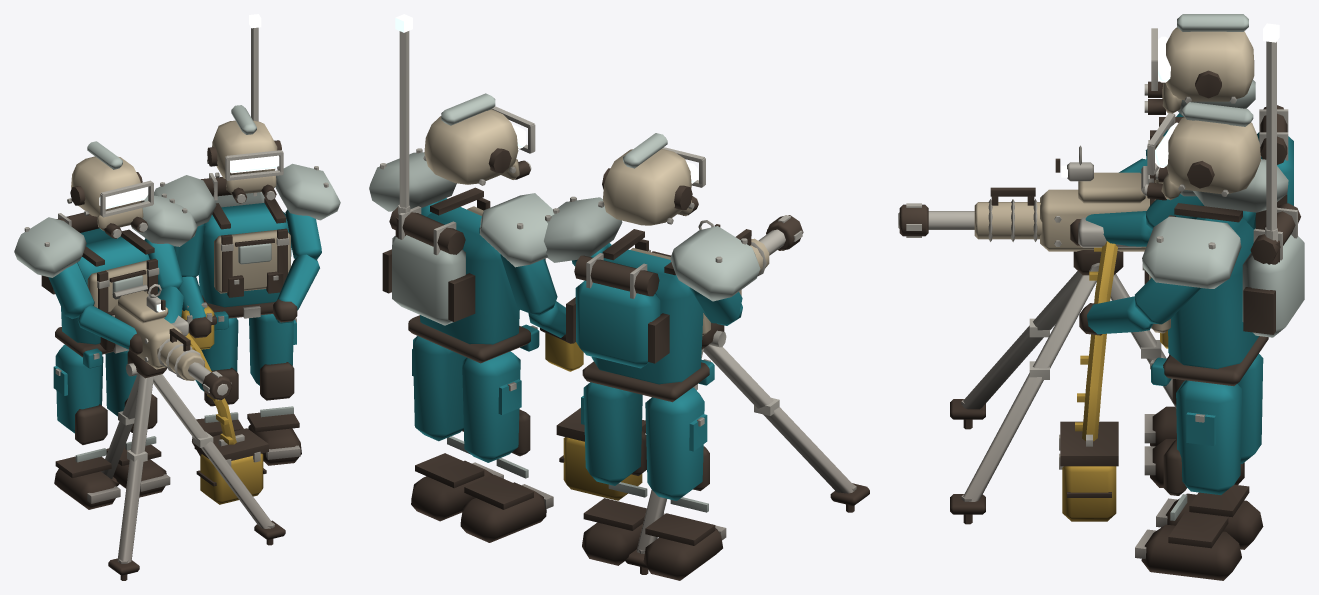
The model's file is gunner.glb.
3 views of the same model, side by side, from view 1: azimuth 30°, elevation 25°; view 2: azimuth 150°, elevation 25°; view 3: azimuth 270°, elevation 25° (orthographic). The views are drawn at different scales.
Visible parts, largest first — view 1: Pad, Tripod, Jacket, Sleeve, Helmet, Forearm, Leg_suit, Leg_suit.001, Vest, Vest_straps, Receiver, Ammo_box (+32 smaller); view 2: Pad, Jacket, Leg_suit, Helmet, Leg_suit.001, Pack, Boot, Pack.001, Tripod, Belt, Boot.001, Sleeve (+18 smaller); view 3: Helmet, Pad, Tripod, Jacket, Leg_suit.001, Receiver, Boot.001, Forearm, Pack.001, Sleeve, Ammo_box, Belt.001 (+31 smaller).
Part boxes in pixels (<box>): Pad: <box>14,163,340,277</box>; Tripod: <box>101,374,273,563</box>; Jacket: <box>61,203,291,344</box>; Sleeve: <box>48,209,321,318</box>; Helmet: <box>71,120,277,216</box>; Forearm: <box>77,254,319,349</box>; Leg_suit: <box>55,317,238,433</box>; Leg_suit.001: <box>105,314,293,416</box>; Vest: <box>87,230,290,311</box>; Vest_straps: <box>82,198,287,313</box>; Receiver: <box>111,290,182,369</box>; Ammo_box: <box>200,453,263,504</box>; Pad: <box>369,152,760,301</box>; Jacket: <box>420,207,703,384</box>; Leg_suit: <box>462,351,704,500</box>; Helmet: <box>424,109,691,225</box>; Leg_suit.001: <box>413,336,642,485</box>; Pack: <box>575,280,660,368</box>; Boot: <box>460,482,722,580</box>; Pack.001: <box>392,235,465,325</box>; Tripod: <box>636,345,854,553</box>; Belt: <box>408,315,709,402</box>; Boot.001: <box>411,460,642,565</box>; Sleeve: <box>421,198,742,323</box>; Helmet: <box>1165,27,1260,193</box>; Pad: <box>1142,80,1288,288</box>; Tripod: <box>962,271,1176,501</box>; Jacket: <box>1168,217,1258,369</box>; Leg_suit.001: <box>1176,380,1241,494</box>; Receiver: <box>1040,172,1149,251</box>; Boot.001: <box>1141,439,1244,580</box>; Forearm: <box>1085,158,1152,334</box>; Pack.001: <box>1242,235,1304,337</box>; Sleeve: <box>1135,113,1255,324</box>; Ammo_box: <box>1062,466,1116,521</box>; Belt.001: <box>1082,241,1117,441</box>.
Bounding box in the file's own units: 2.1 × 2.75 × 1.81.
